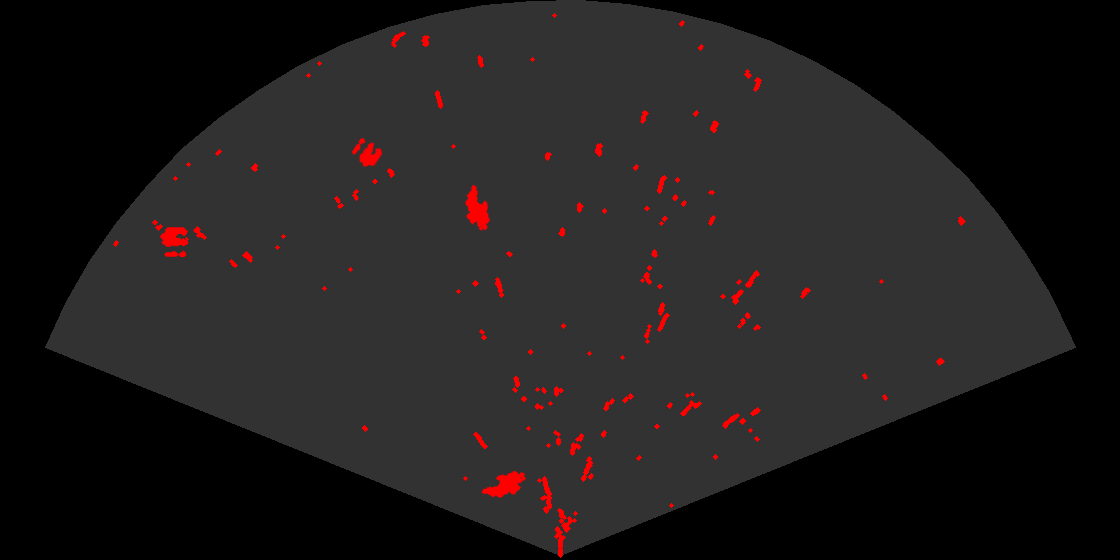AUV: (480, 469, 528, 499), (464, 183, 491, 232)
ball: (350, 136, 384, 169), (159, 226, 190, 259)
